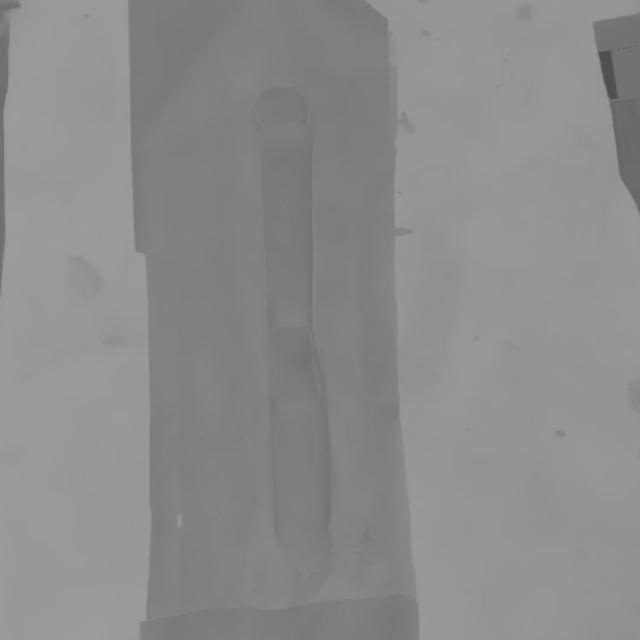separador: (257, 90, 331, 563)
